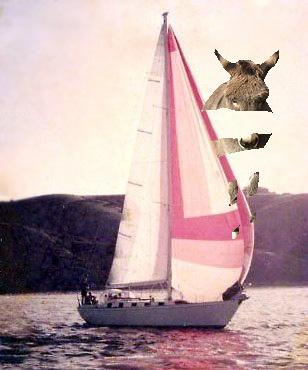tampered: (202, 50, 279, 239)
